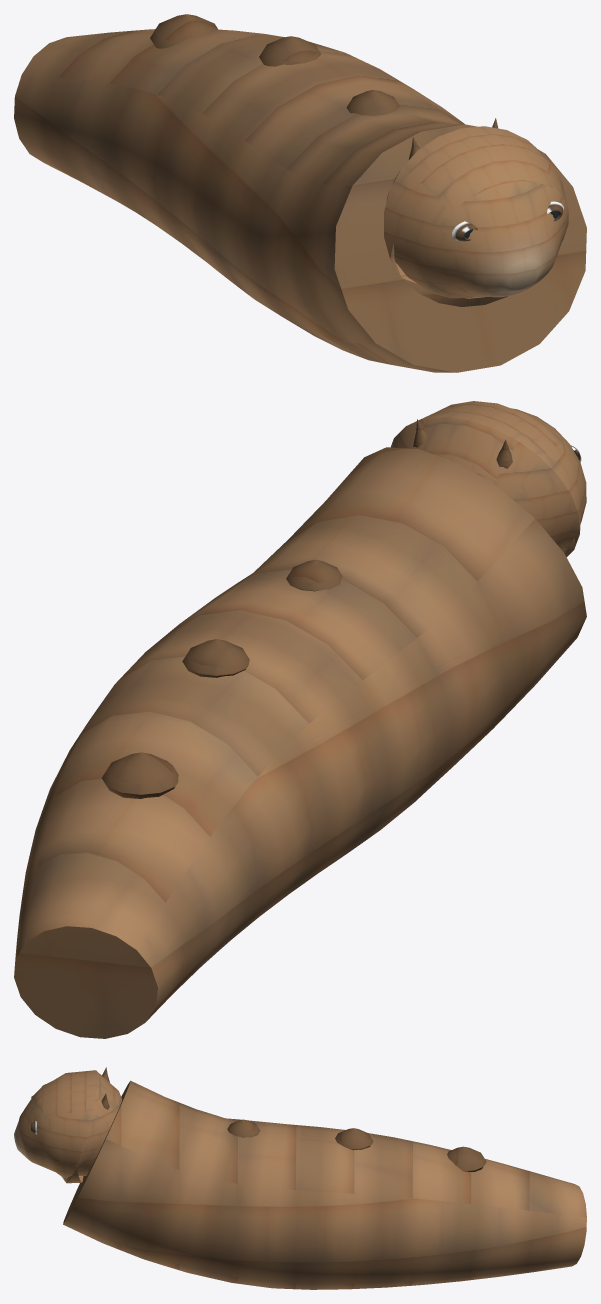
Rendered from sp_tsuchinoko-6g0mrh3s.glb.
The picture shows the model from 3 angles, top to bottom: view 1: azimuth 30°, elevation 25°; view 2: azimuth 150°, elevation 25°; view 3: azimuth 270°, elevation 25°; orthographic projection. The views are drawn at different scales.
Visible parts, largest first — view 1: Body, HeadMesh, Bumps; view 2: Body, HeadMesh, Bumps; view 3: Body, HeadMesh, Bumps.
Part boxes in pixels (x1,y1,x2,y2): Body: (14, 29, 586, 372); HeadMesh: (384, 126, 568, 306); Bumps: (150, 14, 399, 115); Body: (14, 447, 586, 1038); HeadMesh: (390, 401, 586, 556); Bumps: (102, 559, 342, 798); Body: (63, 1080, 586, 1289); HeadMesh: (14, 1070, 122, 1183); Bumps: (227, 1119, 486, 1171).
Size of the model in its own units: 0.3783 by 0.4093 by 1.11.
Materials: 1 (1 with a texture image).
